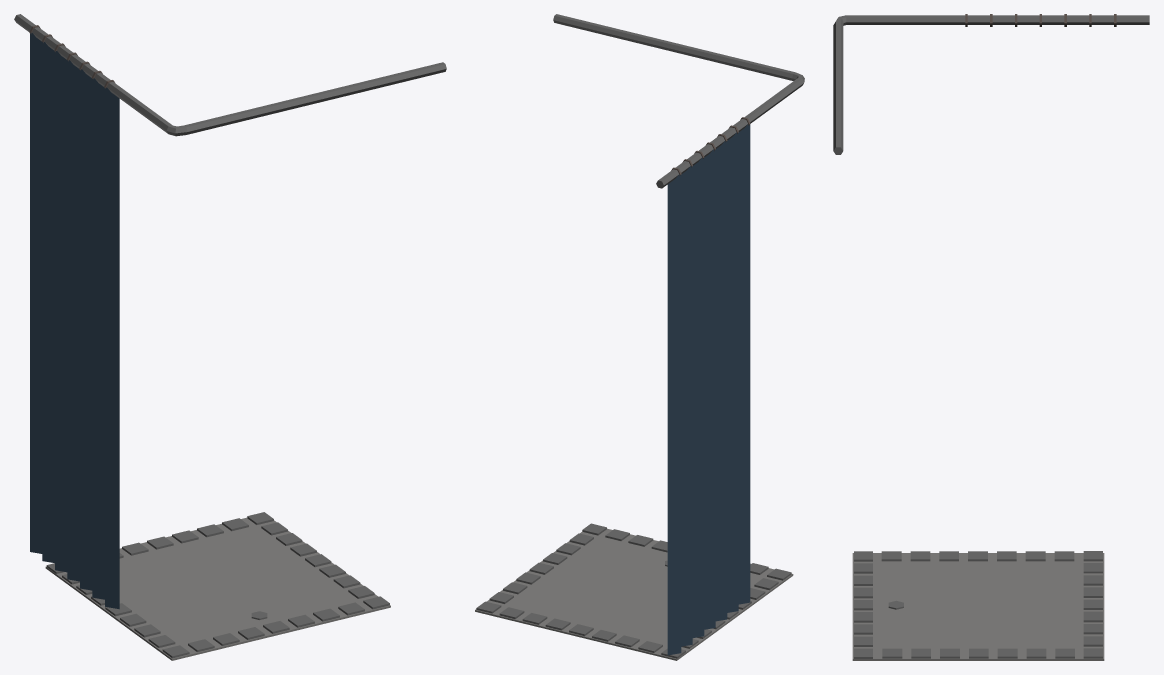
The model's file is Bathroom_Shower1.glb.
The picture shows the model from 3 angles, left to right: view 1: azimuth 30°, elevation 25°; view 2: azimuth 150°, elevation 25°; view 3: azimuth 270°, elevation 25°; orthographic projection. The views are drawn at different scales.
Visible parts, largest first — view 1: Bathroom_Shower1; view 2: Bathroom_Shower1; view 3: Bathroom_Shower1.
Boxes of the visible parts, x1,y1,x2,y2 form: Bathroom_Shower1: [14, 14, 446, 660]; Bathroom_Shower1: [475, 14, 804, 660]; Bathroom_Shower1: [833, 14, 1149, 660].
Size of the model in its own units: 0.9271 by 1.74 by 0.9256.
4 materials, 4 textured.
